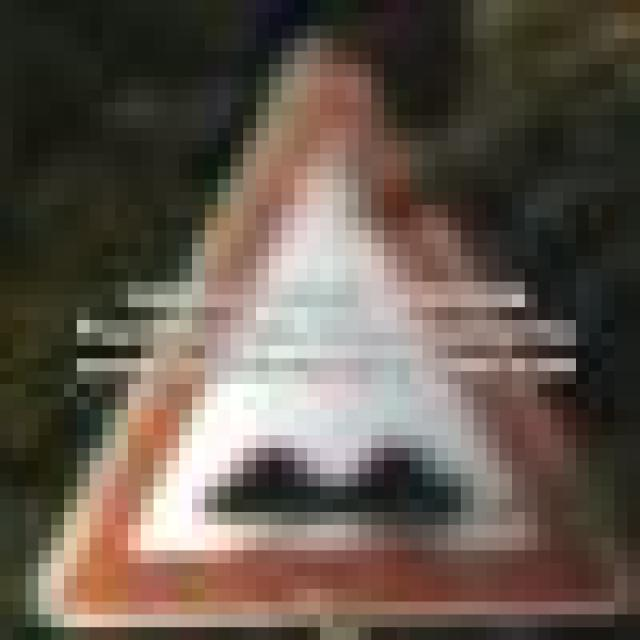horn_prohibited: (13, 26, 627, 602)
